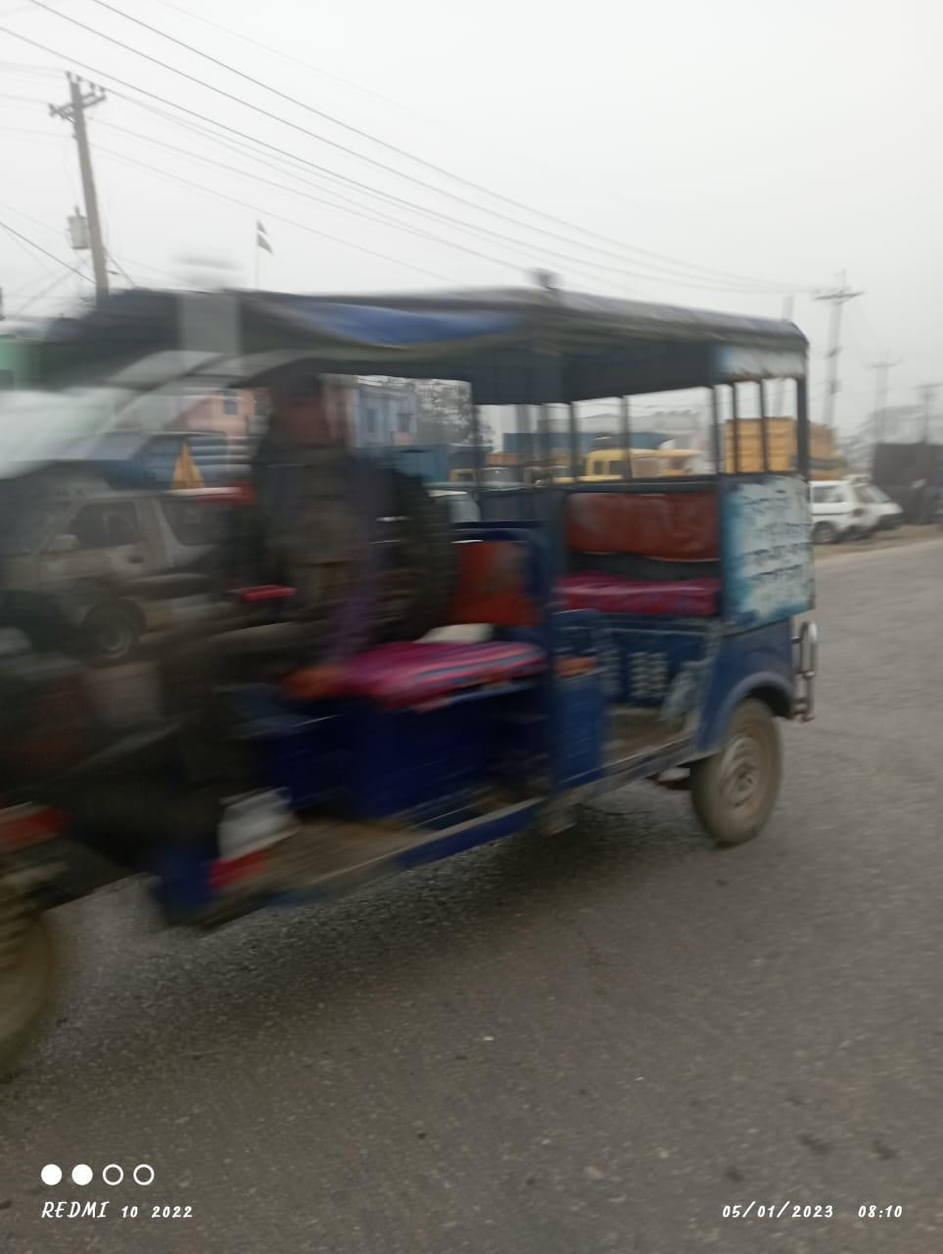Car: (48, 274, 859, 900)
